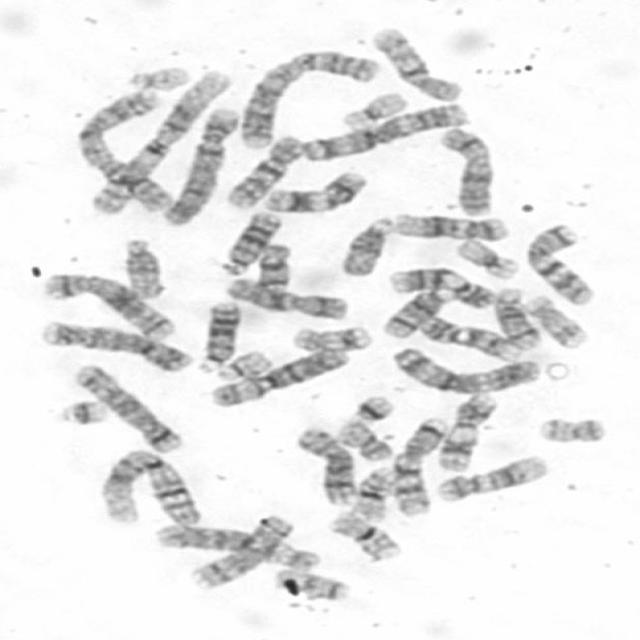A1: (86, 69, 233, 218), (96, 451, 205, 528)
A2: (240, 46, 378, 152), (74, 85, 179, 214)
A3: (298, 105, 470, 164), (385, 348, 541, 393)
B4: (158, 105, 244, 226), (39, 318, 194, 375)
B5: (69, 361, 188, 456), (41, 272, 179, 344)
C10: (362, 26, 466, 103), (217, 132, 308, 214)
C11: (429, 390, 498, 474), (262, 170, 368, 214)
C12: (430, 453, 550, 503), (374, 209, 510, 243)
C6: (153, 520, 324, 578), (205, 346, 346, 411)
C7: (516, 224, 599, 308), (389, 415, 451, 518)
C8: (186, 512, 298, 592), (291, 424, 357, 506)
C9: (410, 313, 530, 363), (385, 266, 497, 311)
D13: (213, 212, 283, 277), (194, 297, 241, 378)
D14: (374, 286, 452, 338), (486, 286, 544, 349)
D15: (333, 216, 397, 278), (118, 235, 165, 301)
E16: (326, 508, 404, 564), (349, 462, 395, 524)
E17: (517, 292, 590, 349), (280, 322, 374, 352)
E18: (272, 567, 350, 604), (251, 240, 294, 296)
F19: (336, 91, 408, 132), (454, 238, 521, 282)
F20: (532, 414, 608, 447), (337, 419, 394, 462)
G21: (346, 393, 396, 427), (54, 402, 109, 426)
G22: (119, 64, 192, 94), (213, 346, 268, 384)
X: (223, 273, 348, 321), (436, 125, 496, 215)
